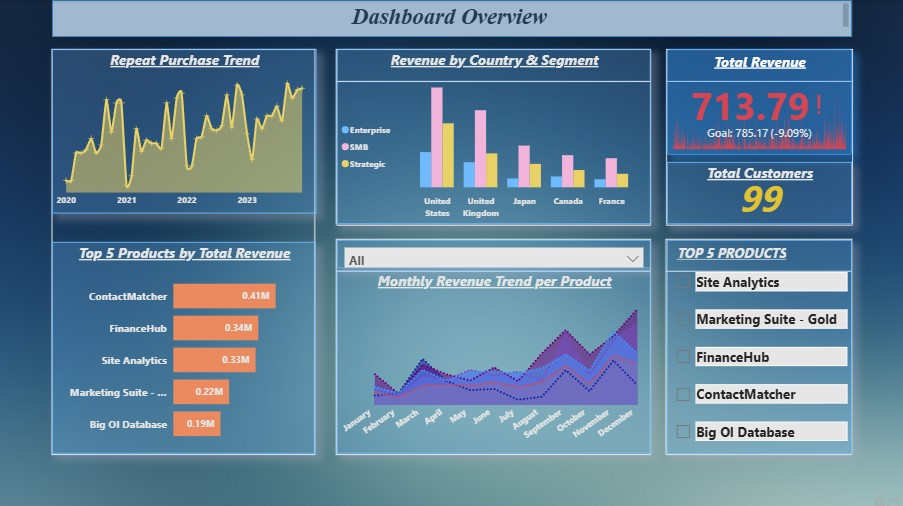

This screenshot's page, from the dashboard's own definition file:
{"tool":"powerbi","page":{"name":"Page 1","canvas":[1280,720],"ordinal":0},"visuals":[{"type":"lineChart","title":"Monthly Revenue Trend per Product","fields":{"Series":["SaaS-Sales_B8E9E49F6C.Product"],"Y":["SaaS-Sales_B8E9E49F6C.Total Revenue"],"Category":["SaaS-Sales_B8E9E49F6C.Order_Date_Clean.Variation.Date Hierarchy.Month"]},"box":[477.1,383,445.1,260.4],"z":0},{"type":"slicer","fields":{"Values":["SaaS-Sales_B8E9E49F6C.Product"]},"box":[477.6,340.2,445,39.7],"z":1000},{"type":"clusteredColumnChart","title":"Revenue by Country & Segment","fields":{"Category":["SaaS-Sales_B8E9E49F6C.Country"],"Series":["SaaS-Sales_B8E9E49F6C.Segment"],"Y":["SaaS-Sales_B8E9E49F6C.Total Revenue"]},"box":[477.6,69.4,445,248],"z":2000},{"type":"barChart","title":"Top 5 Products by Total Revenue","fields":{"Category":["SaaS-Sales_B8E9E49F6C.Product"],"Y":["SaaS-Sales_B8E9E49F6C.Total Revenue"]},"box":[73.7,343,374.2,300.5],"z":3000},{"type":"slicer","fields":{"Values":["SaaS-Sales_B8E9E49F6C.Product"]},"box":[945.4,340.2,262.2,303],"z":4000},{"type":"areaChart","title":"Repeat Purchase Trend","fields":{"Y":["SaaS-Sales_B8E9E49F6C.Customer Count"],"Category":["SaaS-Sales_B8E9E49F6C.Order_Date_Clean.Variation.Date Hierarchy.Year","SaaS-Sales_B8E9E49F6C.Order_Date_Clean.Variation.Date Hierarchy.Month"]},"box":[73.9,68.9,374.6,233.5],"z":5000},{"type":"card","title":"Total Customers","fields":{"Values":["Count(SaaS-Sales_B8E9E49F6C.Customer)"]},"box":[945.4,229.6,262.2,87.9],"z":6000},{"type":"kpi","title":"Total Revenue ","fields":{"Indicator":["SaaS-Sales_B8E9E49F6C.Total Revenue"],"TrendLine":["SaaS-Sales_B8E9E49F6C.Order_Date_Clean"],"Goal":["SaaS-Sales_B8E9E49F6C.Revenue Goal"]},"box":[945.4,69.4,262.2,150.2],"z":7000},{"type":"textbox","box":[73.7,0,1133.9,52.4],"z":8000},{"type":"shape","box":[73.7,0,1133.9,52.4],"z":9000}]}

Visuals, with their boxes in screenshot pixels (x1, y1, x2, y2), scaled from the page's 1280x720 canvas onto the 903x506 screenshot:
"Monthly Revenue Trend per Product" lineChart: pyautogui.locateOnScreen(337, 269, 651, 452)
slicer - SaaS-Sales_B8E9E49F6C.Product: pyautogui.locateOnScreen(337, 239, 651, 267)
"Revenue by Country & Segment" clusteredColumnChart: pyautogui.locateOnScreen(337, 49, 651, 223)
"Top 5 Products by Total Revenue" barChart: pyautogui.locateOnScreen(52, 241, 316, 452)
slicer - SaaS-Sales_B8E9E49F6C.Product: pyautogui.locateOnScreen(667, 239, 852, 452)
"Repeat Purchase Trend" areaChart: pyautogui.locateOnScreen(52, 48, 316, 213)
"Total Customers" card: pyautogui.locateOnScreen(667, 161, 852, 223)
"Total Revenue " kpi: pyautogui.locateOnScreen(667, 49, 852, 154)
textbox: pyautogui.locateOnScreen(52, 0, 852, 37)
shape: pyautogui.locateOnScreen(52, 0, 852, 37)
